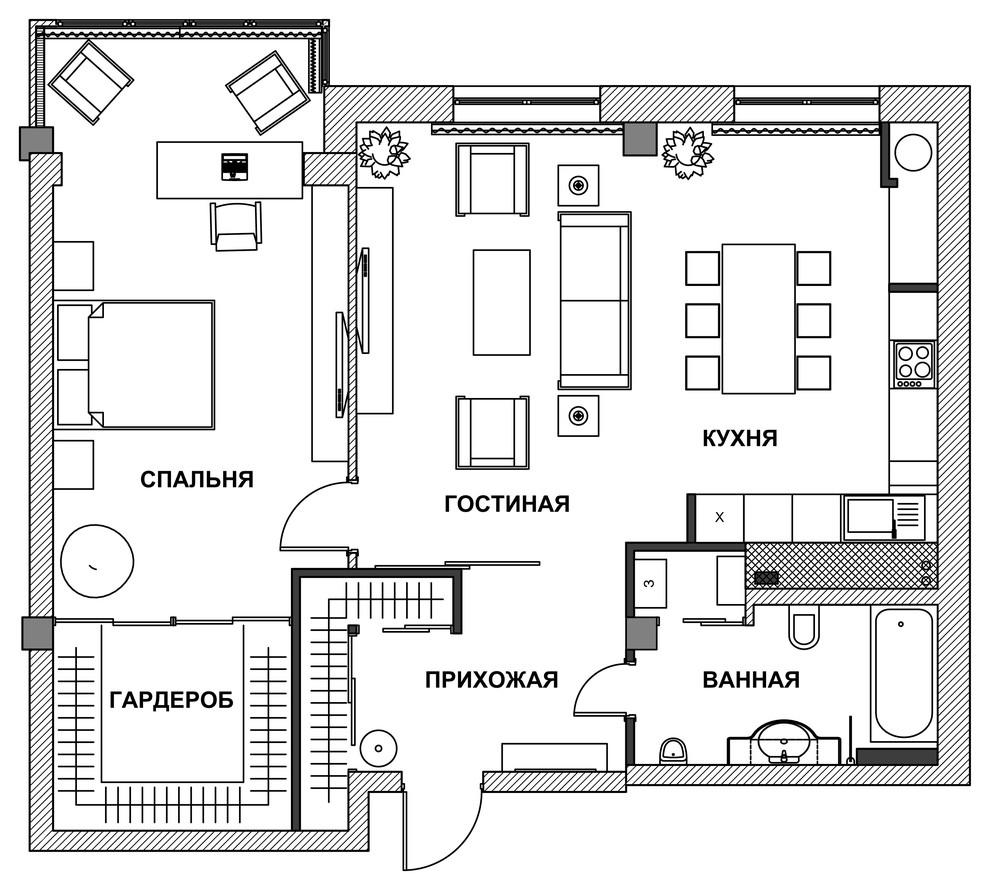bathroom: (632, 549, 939, 766)
bedroom: (44, 36, 350, 616)
hallway: (299, 544, 626, 835)
kitchen: (658, 121, 939, 542)
living_room: (356, 124, 658, 568)
walk_in_closet: (51, 621, 294, 830)
